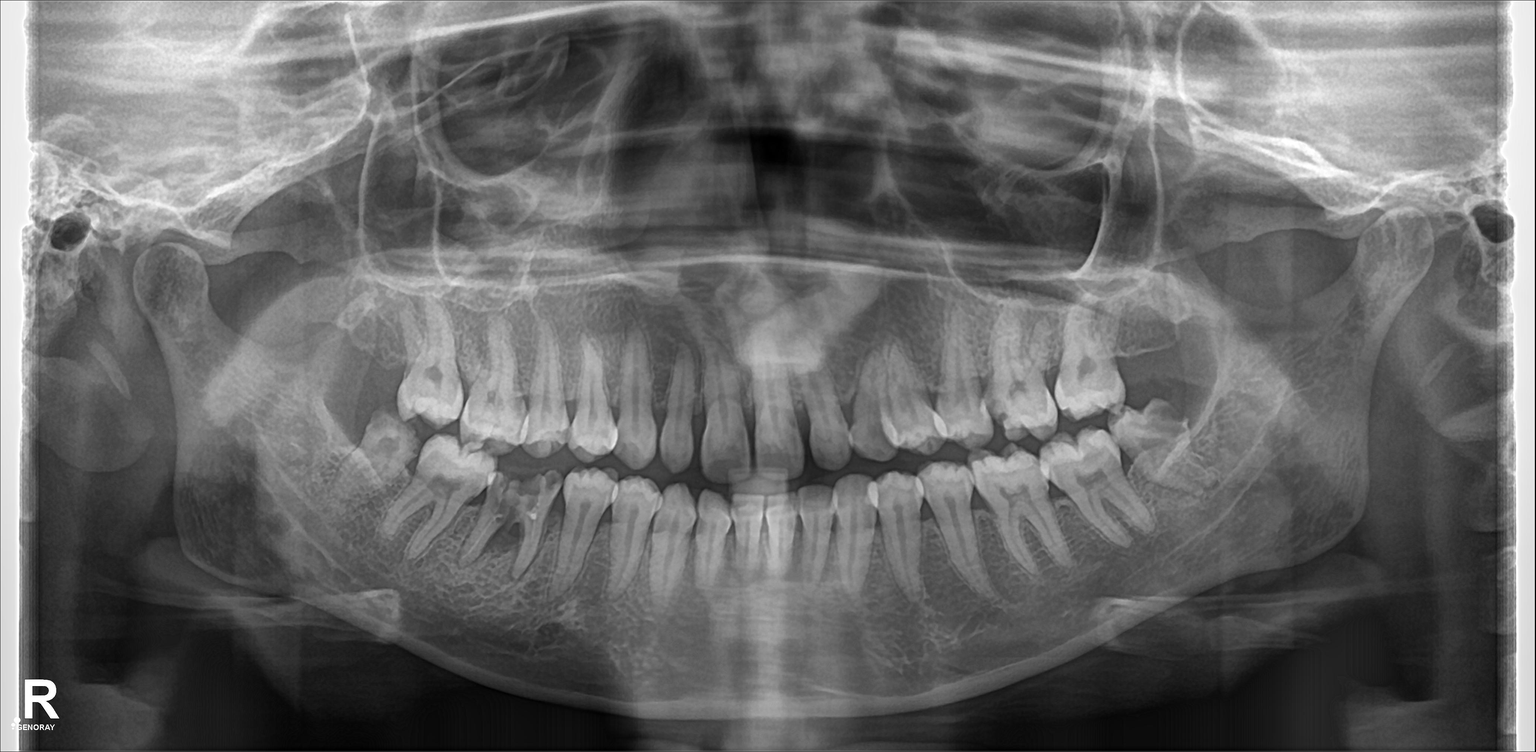Dental Caries: (484, 478, 547, 523)
Impacted Third Molar: (1117, 402, 1211, 487), (350, 411, 411, 492)
Missing Tooth: (1162, 292, 1228, 386), (354, 307, 401, 407), (1117, 298, 1164, 393)
